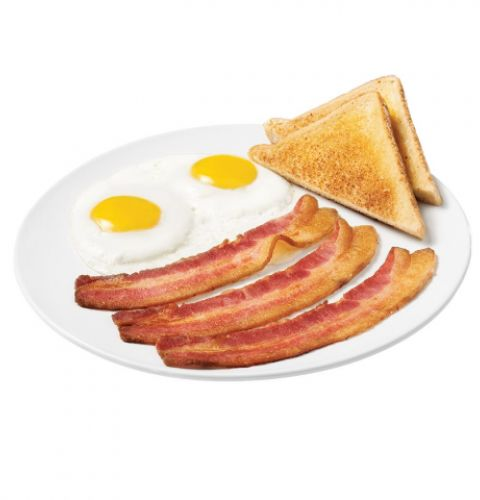bacon: (104, 204, 432, 356)
